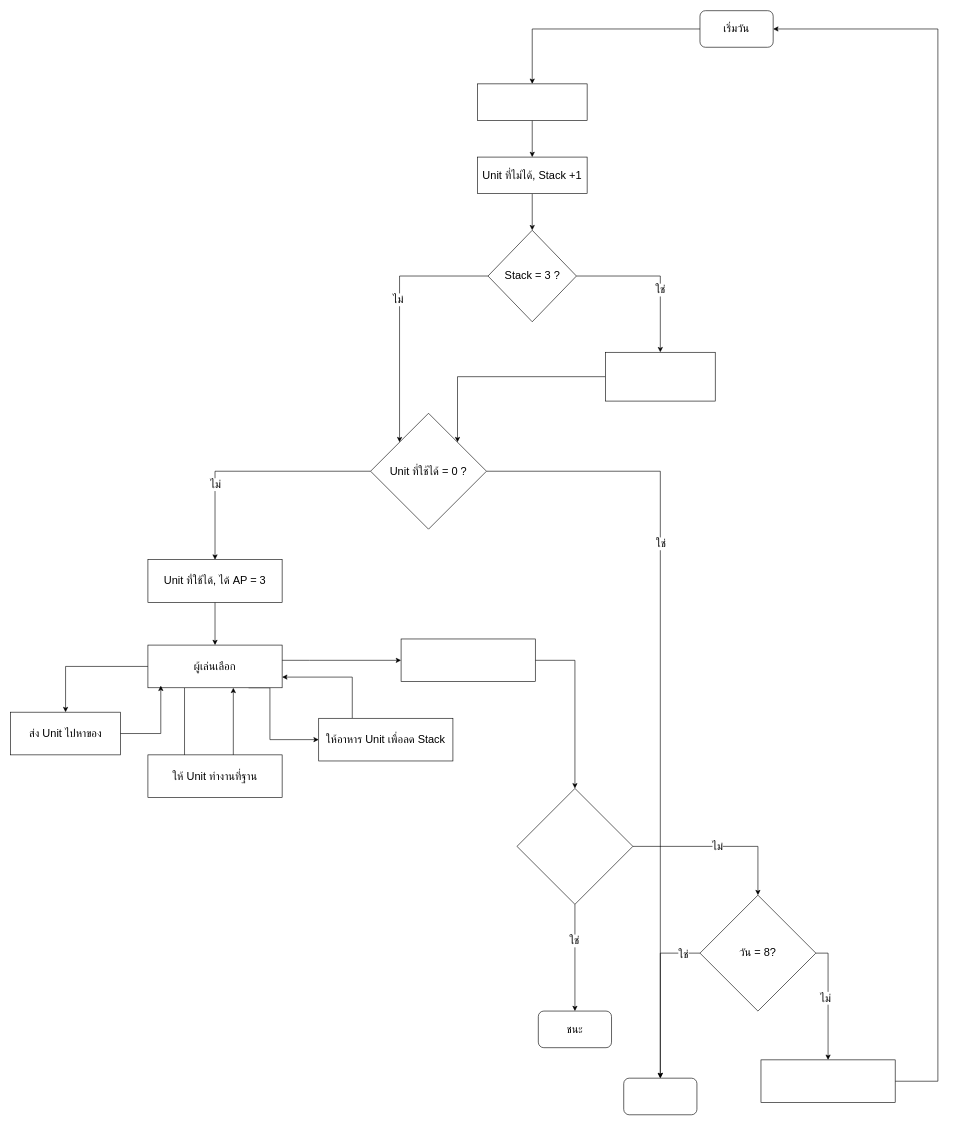
This 953x1125 diagram has some shape labels left out. Each missing label, with the centre of its shape:
"Unit นั้นใช้งานต่อไม่ได้" goes at [660,376].
"Unit ได้รับอาหาร" goes at [532,101].
"กดจบวัน" goes at [467,660].
"มี Core Item?" goes at [574,846].
"วัน +1" goes at [827,1081].
"แพ้" goes at [660,1096].
